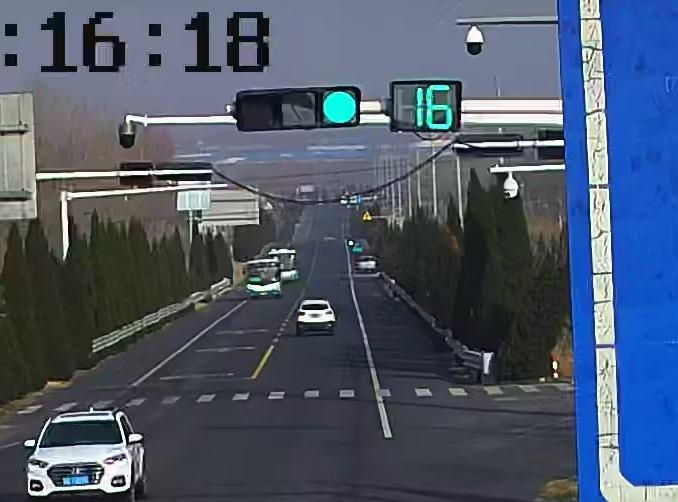green: (323, 88, 358, 126)
greentime: (413, 84, 455, 132)
